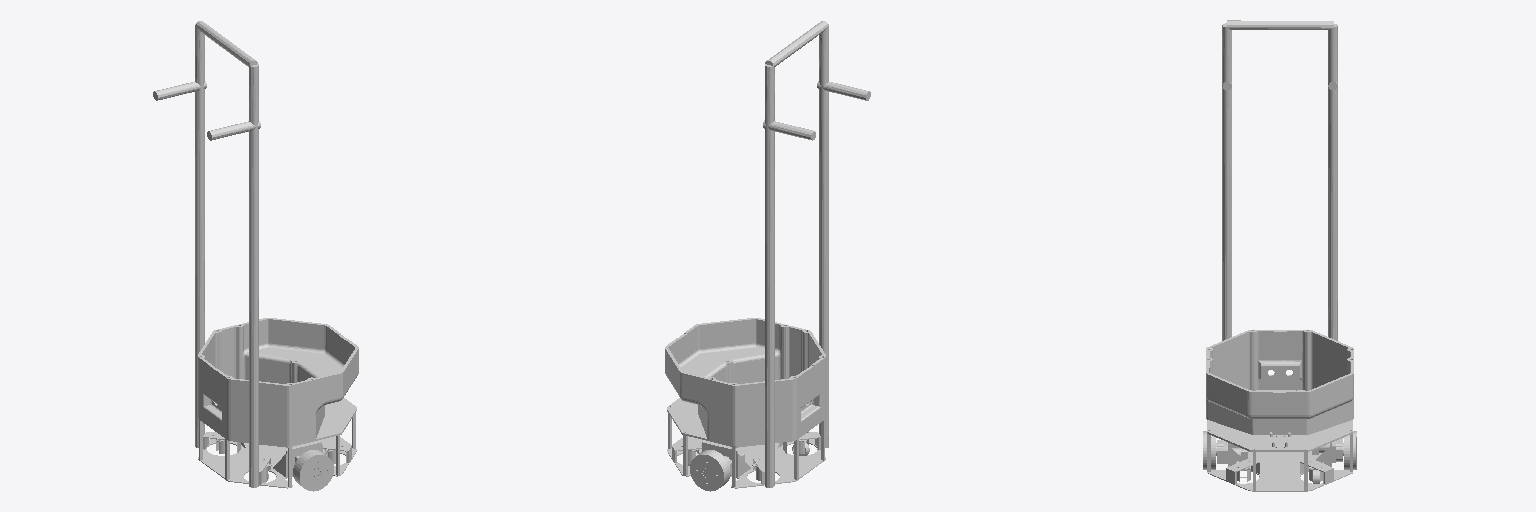
robot.urdf — Test0:
<?xml version="1.0" encoding="utf-8"?>
<!-- This URDF was automatically created by SolidWorks to URDF Exporter! Originally created by Stephen Brawner (brawner@gmail.com) 
     Commit Version: 1.6.0-4-g7f85cfe  Build Version: 1.6.7995.38578
     For more information, please see http://wiki.ros.org/sw_urdf_exporter -->
<robot
  name="Test0">
  <link
    name="base_footprint_link">
    <inertial>
      <origin
        xyz="-0.0570238943367671 0.000320793320761847 0.394983107885768"
        rpy="0 0 0" />
      <mass
        value="7.97077901603284" />
      <inertia
        ixx="0.564703016591897"
        ixy="-0.00026315843986076"
        ixz="0.00421618336070413"
        iyy="0.506646564605231"
        iyz="2.71098533627254E-05"
        izz="0.138133376970923" />
    </inertial>
    <visual>
      <origin
        xyz="0 0 0"
        rpy="0 0 0" />
      <geometry>
        <mesh
          filename="package://my_robot_description/meshes/base_footprint_link.STL" />
      </geometry>
      <material
        name="">
        <color
          rgba="0.858823529411765 0.858823529411765 0.858823529411765 0.1" />
      </material>
    </visual>
    <collision>
      <origin
        xyz="0 0 0"
        rpy="0 0 0" />
      <geometry>
        <mesh
          filename="package://my_robot_description/meshes/base_footprint_link.STL" />
      </geometry>
    </collision>
  </link>
  <link
    name="MWR_Link">
    <inertial>
      <origin
        xyz="-3.61866692166757E-07 0.00169749189013735 -2.05963571309198E-07"
        rpy="0 0 0" />
      <mass
        value="0.466851252756426" />
      <inertia
        ixx="0.00044060625166746"
        ixy="-3.2458431634984E-09"
        ixz="9.82786682125029E-09"
        iyy="0.000814141386237763"
        iyz="-1.84743702542368E-09"
        izz="0.000440594578385447" />
    </inertial>
    <visual>
      <origin
        xyz="0 0 0"
        rpy="0 0 0" />
      <geometry>
        <mesh
          filename="package://my_robot_description/meshes/MWR_Link.STL" />
      </geometry>
      <material
        name="">
        <color
          rgba="0.858823529411765 0.858823529411765 0.858823529411765 0.1" />
      </material>
    </visual>
    <collision>
      <origin
        xyz="0 0 0"
        rpy="0 0 0" />
      <geometry>
        <mesh
          filename="package://my_robot_description/meshes/MWR_Link.STL" />
      </geometry>
    </collision>
  </link>
  <joint
    name="MWR_Link_J"
    type="continuous">
    <origin
      xyz="2.8025E-05 -0.21678 0.06"
      rpy="0 0 -0.0034085" />
    <parent
      link="base_footprint_link" />
    <child
      link="MWR_Link" />
    <axis
      xyz="0 1 0" />
  </joint>
  <link
    name="MWL_Link">
    <inertial>
      <origin
        xyz="-1.24078525232107E-12 -3.46322112876329E-05 -7.88480392088786E-13"
        rpy="0 0 0" />
      <mass
        value="0.445537025884621" />
      <inertia
        ixx="0.00043646303054229"
        ixy="1.26999508567326E-18"
        ixz="-1.24198924934284E-08"
        iyy="0.00080980686348029"
        iyz="7.74774995021095E-19"
        izz="0.000436448278520281" />
    </inertial>
    <visual>
      <origin
        xyz="0 0 0"
        rpy="0 0 0" />
      <geometry>
        <mesh
          filename="package://my_robot_description/meshes/MWL_Link.STL" />
      </geometry>
      <material
        name="">
        <color
          rgba="0.858823529411765 0.858823529411765 0.858823529411765 0.1" />
      </material>
    </visual>
    <collision>
      <origin
        xyz="0 0 0"
        rpy="0 0 0" />
      <geometry>
        <mesh
          filename="package://my_robot_description/meshes/MWL_Link.STL" />
      </geometry>
    </collision>
  </link>
  <joint
    name="MWL_Link_J"
    type="continuous">
    <origin
      xyz="0.00041175 0.21636 0.06"
      rpy="0 0 -0.0034085" />
    <parent
      link="base_footprint_link" />
    <child
      link="MWL_Link" />
    <axis
      xyz="0 1 0" />
  </joint>
  <link
    name="CFR_Link">
    <inertial>
      <origin
        xyz="0 -1.11022302462516E-16 0"
        rpy="0 0 0" />
      <mass
        value="0.0225801971976767" />
      <inertia
        ixx="4.27698207368044E-06"
        ixy="4.30587632545263E-38"
        ixz="-1.01562978102684E-38"
        iyy="7.87603463265499E-06"
        iyz="-1.19105784889192E-20"
        izz="4.27698207368044E-06" />
    </inertial>
    <visual>
      <origin
        xyz="0 0 0"
        rpy="0 0 0" />
      <geometry>
        <mesh
          filename="package://my_robot_description/meshes/CFR_Link.STL" />
      </geometry>
      <material
        name="">
        <color
          rgba="0.858823529411765 0.858823529411765 0.858823529411765 0.1" />
      </material>
    </visual>
    <collision>
      <origin
        xyz="0 0 0"
        rpy="0 0 0" />
      <geometry>
        <mesh
          filename="package://my_robot_description/meshes/CFR_Link.STL" />
      </geometry>
    </collision>
  </link>
  <joint
    name="CFR_Link_J"
    type="fixed">
    <origin
      xyz="0.12462 -0.11293 0.0265"
      rpy="0 0 -0.0034085" />
    <parent
      link="base_footprint_link" />
    <child
      link="CFR_Link" />
    <axis
      xyz="0 0 0" />
  </joint>
  <link
    name="CBR_Link">
    <inertial>
      <origin
        xyz="1.11022302462516E-16 -5.55111512312578E-17 0"
        rpy="0 0 0" />
      <mass
        value="0.0225801971976767" />
      <inertia
        ixx="4.27698207368044E-06"
        ixy="4.30587632545263E-38"
        ixz="-1.01562978102688E-38"
        iyy="7.87603463265499E-06"
        iyz="-1.18046993705124E-20"
        izz="4.27698207368044E-06" />
    </inertial>
    <visual>
      <origin
        xyz="0 0 0"
        rpy="0 0 0" />
      <geometry>
        <mesh
          filename="package://my_robot_description/meshes/CBR_Link.STL" />
      </geometry>
      <material
        name="">
        <color
          rgba="0.858823529411765 0.858823529411765 0.858823529411765 0.1" />
      </material>
    </visual>
    <collision>
      <origin
        xyz="0 0 0"
        rpy="0 0 0" />
      <geometry>
        <mesh
          filename="package://my_robot_description/meshes/CBR_Link.STL" />
      </geometry>
    </collision>
  </link>
  <joint
    name="CBR_Link_J"
    type="fixed">
    <origin
      xyz="-0.12538 -0.11207 0.0265"
      rpy="0 0 -0.0034085" />
    <parent
      link="base_footprint_link" />
    <child
      link="CBR_Link" />
    <axis
      xyz="0 0 0" />
  </joint>
  <link
    name="CFL_Link">
    <inertial>
      <origin
        xyz="1.11022302462516E-16 -1.11022302462516E-16 -4.44089209850063E-16"
        rpy="0 0 0" />
      <mass
        value="0.0225801971976767" />
      <inertia
        ixx="4.27698207368044E-06"
        ixy="4.30587632545263E-38"
        ixz="-1.01562978102684E-38"
        iyy="7.87603463265499E-06"
        iyz="-1.19105784889192E-20"
        izz="4.27698207368045E-06" />
    </inertial>
    <visual>
      <origin
        xyz="0 0 0"
        rpy="0 0 0" />
      <geometry>
        <mesh
          filename="package://my_robot_description/meshes/CFL_Link.STL" />
      </geometry>
      <material
        name="">
        <color
          rgba="0.858823529411765 0.858823529411765 0.858823529411765 0.1" />
      </material>
    </visual>
    <collision>
      <origin
        xyz="0 0 0"
        rpy="0 0 0" />
      <geometry>
        <mesh
          filename="package://my_robot_description/meshes/CFL_Link.STL" />
      </geometry>
    </collision>
  </link>
  <joint
    name="CFL_Link_J"
    type="fixed">
    <origin
      xyz="0.12538 0.11207 0.0265"
      rpy="0 0 -0.0034085" />
    <parent
      link="base_footprint_link" />
    <child
      link="CFL_Link" />
    <axis
      xyz="0 0 0" />
  </joint>
  <link
    name="CBL_Link">
    <inertial>
      <origin
        xyz="0 -1.11022302462516E-16 0"
        rpy="0 0 0" />
      <mass
        value="0.0225801971976767" />
      <inertia
        ixx="4.27698207368044E-06"
        ixy="4.30587632545263E-38"
        ixz="-1.01562978102684E-38"
        iyy="7.87603463265499E-06"
        iyz="-1.19105784889192E-20"
        izz="4.27698207368045E-06" />
    </inertial>
    <visual>
      <origin
        xyz="0 0 0"
        rpy="0 0 0" />
      <geometry>
        <mesh
          filename="package://my_robot_description/meshes/CBL_Link.STL" />
      </geometry>
      <material
        name="">
        <color
          rgba="0.858823529411765 0.858823529411765 0.858823529411765 0.1" />
      </material>
    </visual>
    <collision>
      <origin
        xyz="0 0 0"
        rpy="0 0 0" />
      <geometry>
        <mesh
          filename="package://my_robot_description/meshes/CBL_Link.STL" />
      </geometry>
    </collision>
  </link>
  <joint
    name="CBL_Link_J"
    type="fixed">
    <origin
      xyz="-0.12462 0.11293 0.0265"
      rpy="0 0 -0.0034085" />
    <parent
      link="base_footprint_link" />
    <child
      link="CBL_Link" />
    <axis
      xyz="0 0 0" />
  </joint>
  <link
    name="Lidar_Link">
    <inertial>
      <origin
        xyz="0.0120605325163315 -0.0005330805547894 -0.0190152625446196"
        rpy="0 0 0" />
      <mass
        value="0.0730815504750763" />
      <inertia
        ixx="1.95791676154068E-05"
        ixy="-1.04522238629401E-07"
        ixz="-4.28234102500603E-07"
        iyy="2.4125809262463E-05"
        iyz="9.34336092984868E-09"
        izz="4.14174355505559E-05" />
    </inertial>
    <visual>
      <origin
        xyz="0 0 0"
        rpy="0 0 0" />
      <geometry>
        <mesh
          filename="package://my_robot_description/meshes/Lidar_Link.STL" />
      </geometry>
      <material
        name="">
        <color
          rgba="0.752941176470588 0.752941176470588 0.752941176470588 1" />
      </material>
    </visual>
    <collision>
      <origin
        xyz="0 0 0"
        rpy="0 0 0" />
      <geometry>
        <mesh
          filename="package://my_robot_description/meshes/Lidar_Link.STL" />
      </geometry>
    </collision>
  </link>
  <joint
    name="Lidar_Link_J"
    type="fixed">
    <origin
      xyz="0.15601 0.00023517 0.22275"
      rpy="0 0 -0.0034085" />
    <parent
      link="base_footprint_link" />
    <child
      link="Lidar_Link" />
    <axis
      xyz="0 0 0" />
  </joint>
  <link
    name="MPU_Link">
    <inertial>
      <origin
        xyz="0.000548666975906831 6.86596336053058E-05 -0.00212070510127371"
        rpy="0 0 0" />
      <mass
        value="0.000999898118986847" />
      <inertia
        ixx="2.50456299192788E-08"
        ixy="-2.83087758630187E-14"
        ixz="-2.69530310584318E-14"
        iyy="1.2450495325116E-08"
        iyz="-1.16343900762481E-14"
        izz="3.063763531159E-08" />
    </inertial>
    <visual>
      <origin
        xyz="0 0 0"
        rpy="0 0 0" />
      <geometry>
        <mesh
          filename="package://my_robot_description/meshes/MPU_Link.STL" />
      </geometry>
      <material
        name="">
        <color
          rgba="0.752941176470588 0.752941176470588 0.752941176470588 1" />
      </material>
    </visual>
    <collision>
      <origin
        xyz="0 0 0"
        rpy="0 0 0" />
      <geometry>
        <mesh
          filename="package://my_robot_description/meshes/MPU_Link.STL" />
      </geometry>
    </collision>
  </link>
  <joint
    name="MPU_Link_J"
    type="fixed">
    <origin
      xyz="0.069783287639144 -0.00100475995919391 0.179300000011291"
      rpy="0 0 -0.00340845658018366" />
    <parent
      link="base_footprint_link" />
    <child
      link="MPU_Link" />
    <axis
      xyz="0 0 0" />
  </joint>
</robot>

--- Render facts (derived) ---
The picture shows the robot from 3 angles, left to right: view 1: azimuth 30°, elevation 25°; view 2: azimuth 150°, elevation 25°; view 3: azimuth 270°, elevation 25°; orthographic projection.
Robot: Test0 — 9 links, 8 joints (2 continuous, 6 fixed); root link base_footprint_link; default pose: all joints at 0.
Links seen in each view (by area): view 1: base_footprint_link, MWR_Link; view 2: base_footprint_link, MWL_Link; view 3: base_footprint_link.
Link boxes in pixels (<box>): base_footprint_link: <box>153,21,358,488</box>; MWR_Link: <box>293,450,333,491</box>; base_footprint_link: <box>665,21,870,488</box>; MWL_Link: <box>690,450,730,491</box>; base_footprint_link: <box>1206,20,1353,491</box>.
Size in the robot's own frame: 0.5612 by 0.4735 by 1.44 metres.
Meshes: 9 distinct files referenced, 6 mesh visuals loaded (6 binary STL); not drawn: 3 (reference not matched to a file when rendering).
